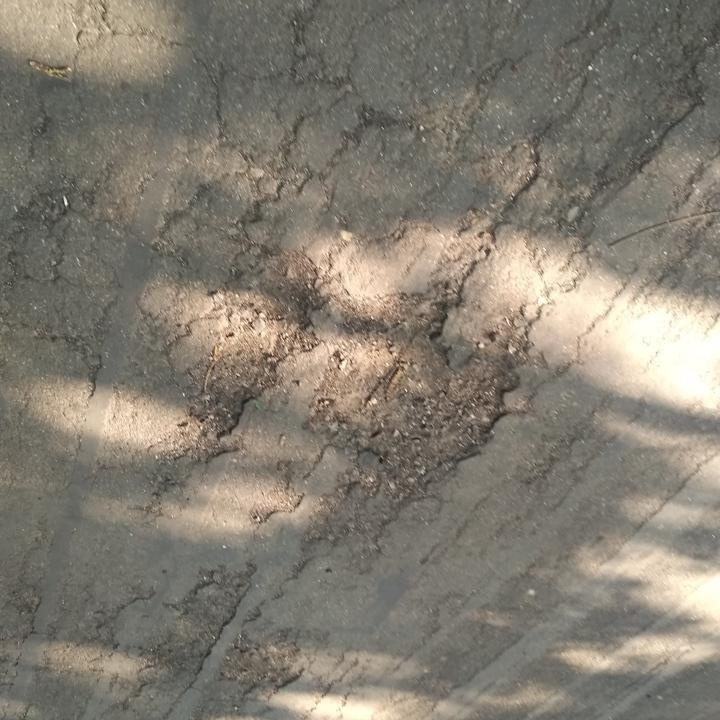pothole: (315, 283, 543, 491), (185, 250, 329, 443), (221, 625, 304, 703)
